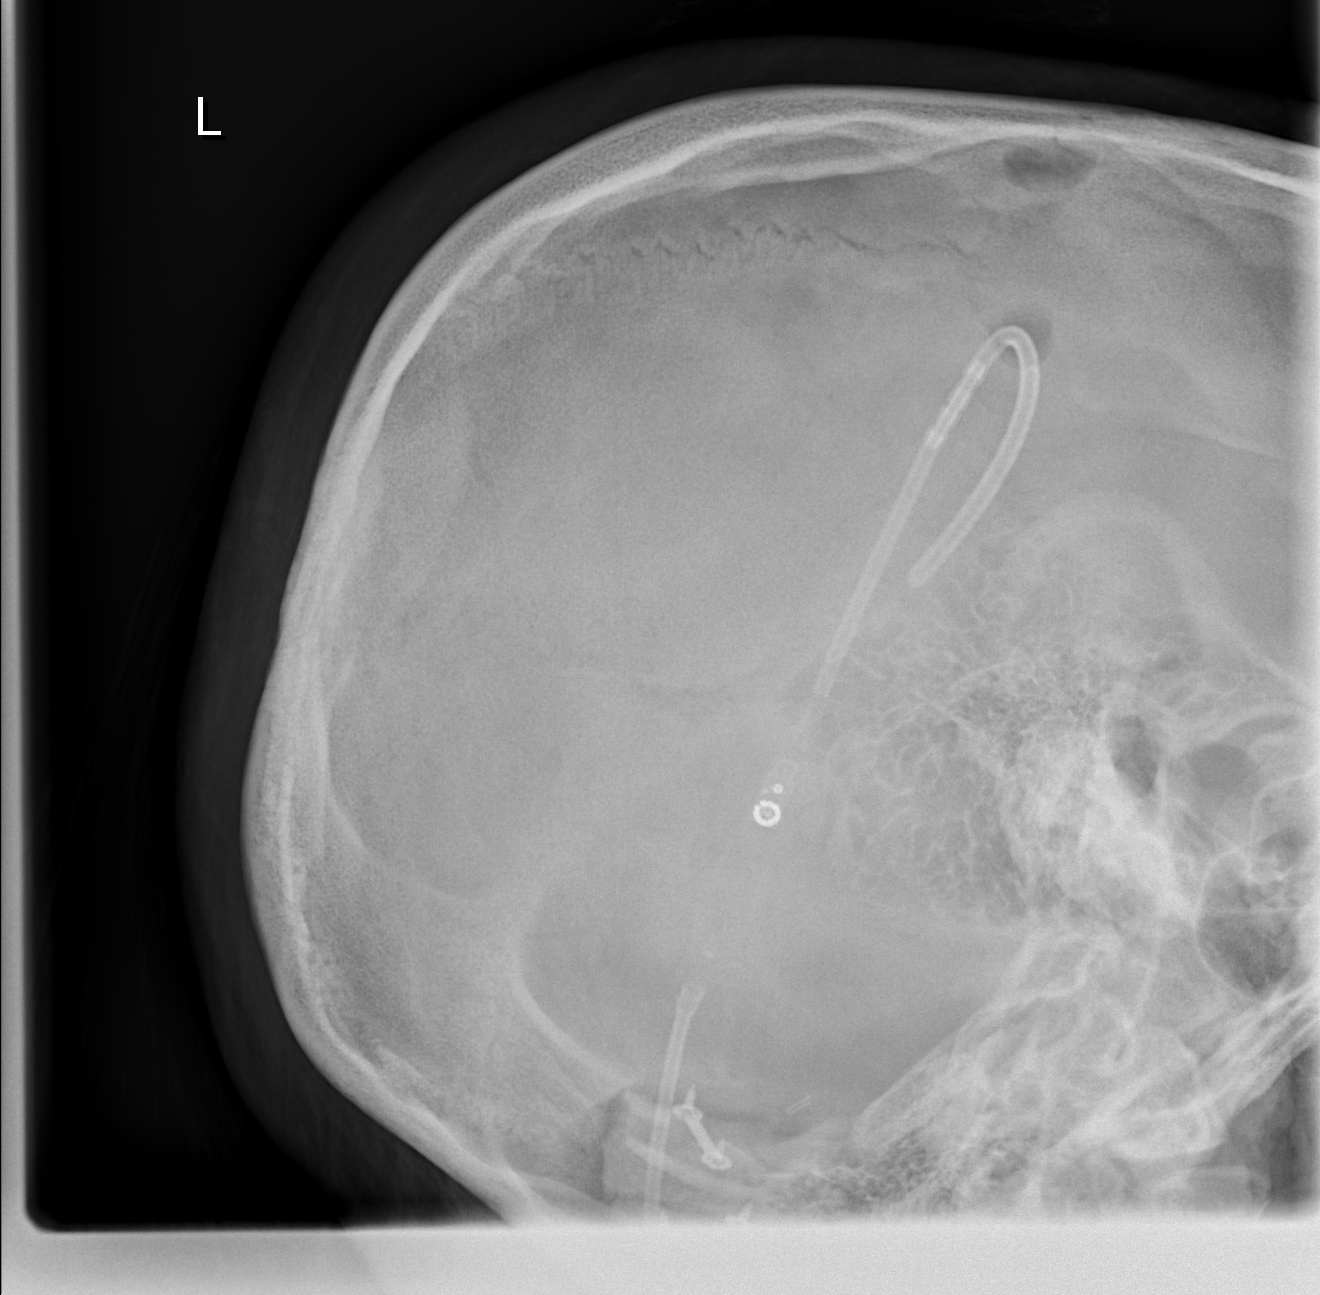Codman Hakim: (742, 755, 804, 844)
